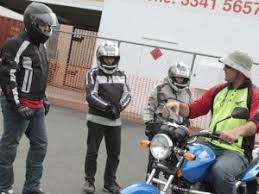helmet: (20, 2, 60, 47), (93, 38, 125, 79), (171, 60, 190, 89)
